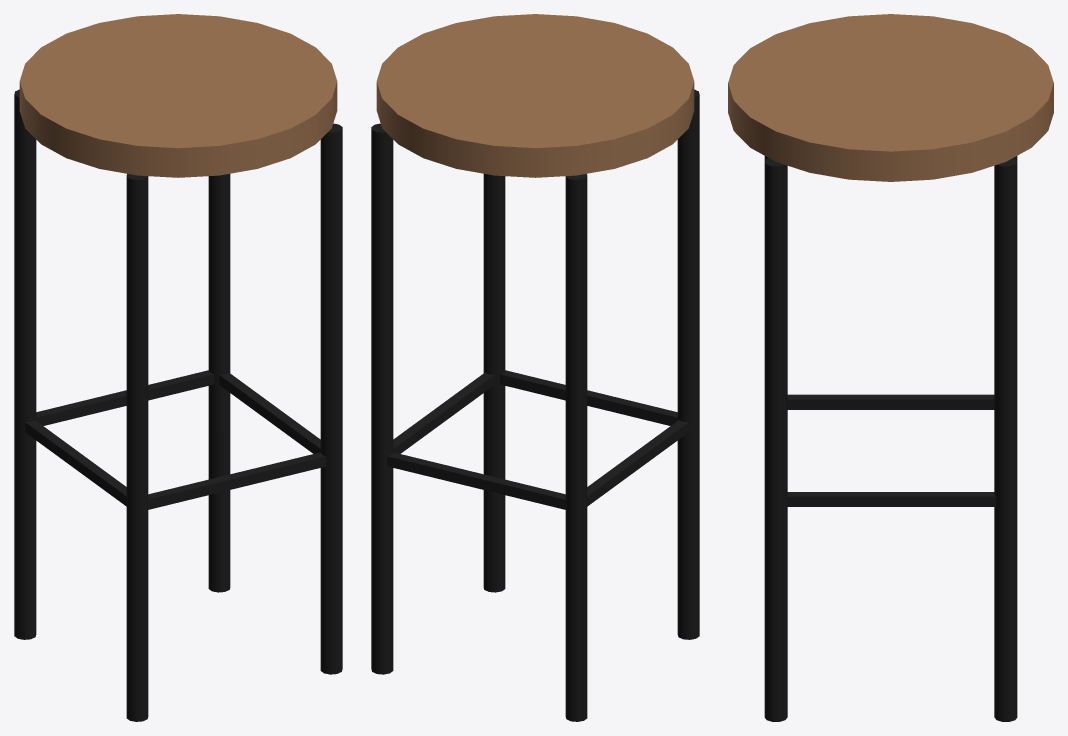
File: 43_hoker.glb
3 renders of one model, left to right at view 1: azimuth 30°, elevation 25°; view 2: azimuth 150°, elevation 25°; view 3: azimuth 270°, elevation 25°, orthographic. The views are drawn at different scales.
Parts seen in each view (by area): view 1: Hoker_nogi, Hoker_siedzisko; view 2: Hoker_nogi, Hoker_siedzisko; view 3: Hoker_siedzisko, Hoker_nogi.
Part boxes in pixels (x1=…): Hoker_nogi: x1=14, y1=89, x2=342, y2=721; Hoker_siedzisko: x1=19, y1=14, x2=337, y2=177; Hoker_nogi: x1=371, y1=89, x2=699, y2=721; Hoker_siedzisko: x1=376, y1=14, x2=694, y2=177; Hoker_siedzisko: x1=728, y1=14, x2=1053, y2=181; Hoker_nogi: x1=764, y1=156, x2=1017, y2=721.
Bounding box in the file's own units: 0.34 × 0.675 × 0.34.
